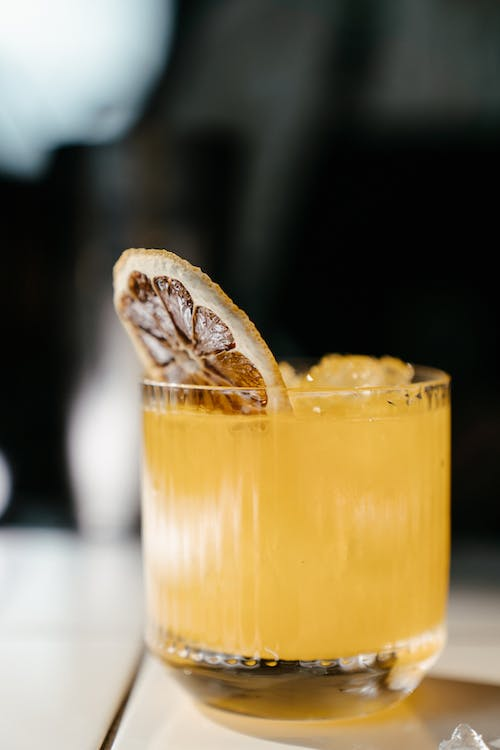alcohol: (137, 360, 453, 724)
